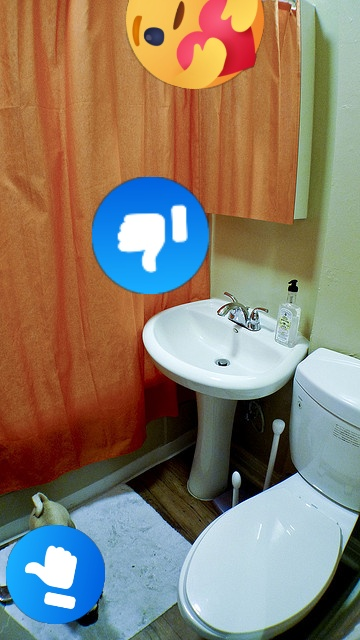care: (126, 0, 264, 89)
like: (92, 177, 209, 294), (6, 525, 105, 624)
